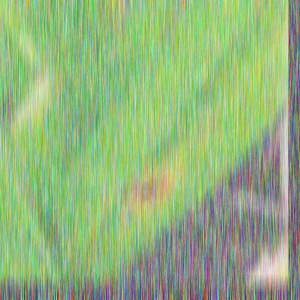Bacterial_Leaf_Blight: (128, 175, 174, 204)
